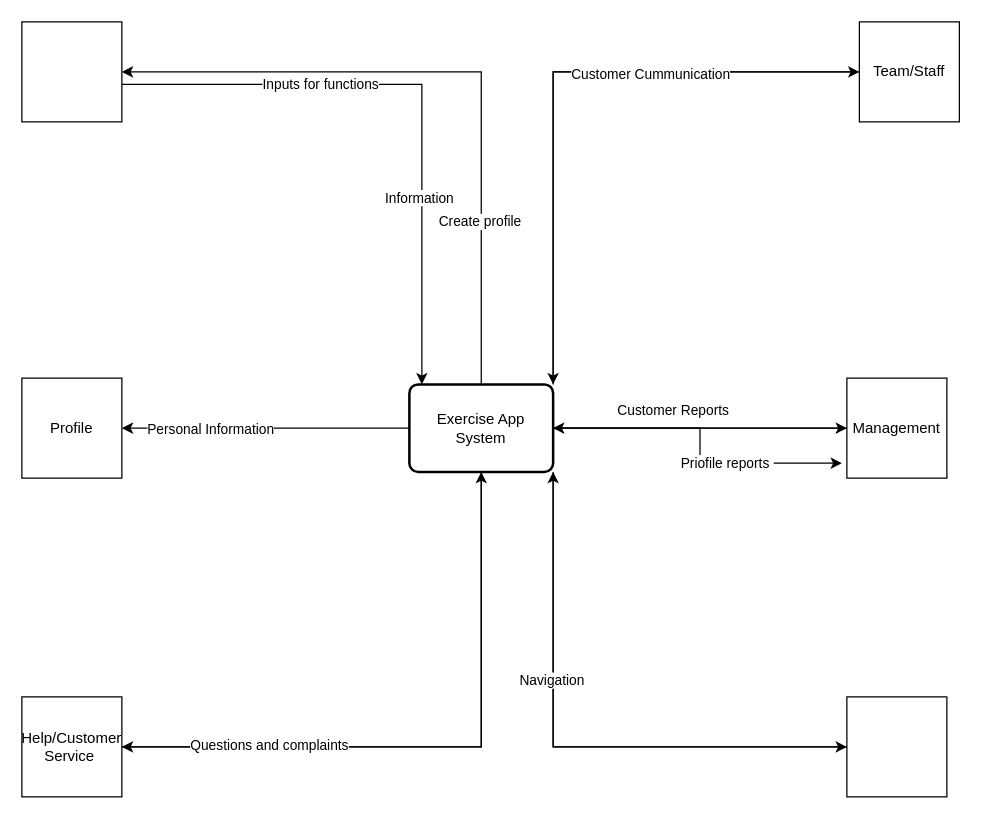
The diagram is 981 pixels wide and 819 high, and some of its shapes have lost their labels. The shapes that lost their labels are listed below. From the top down, each one's centre as x and y in pixels, then its label:
the point at 71,71: Customer
the point at 896,746: Functions
